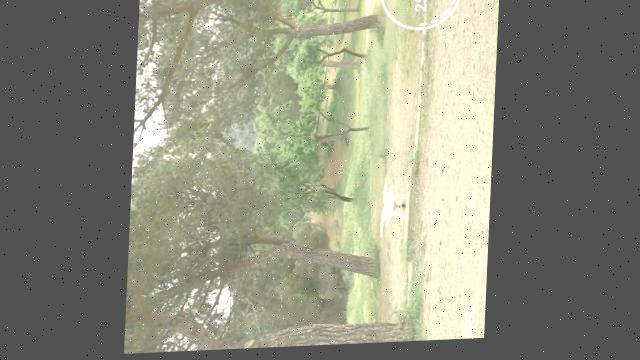drone: (380, 174, 413, 241)
